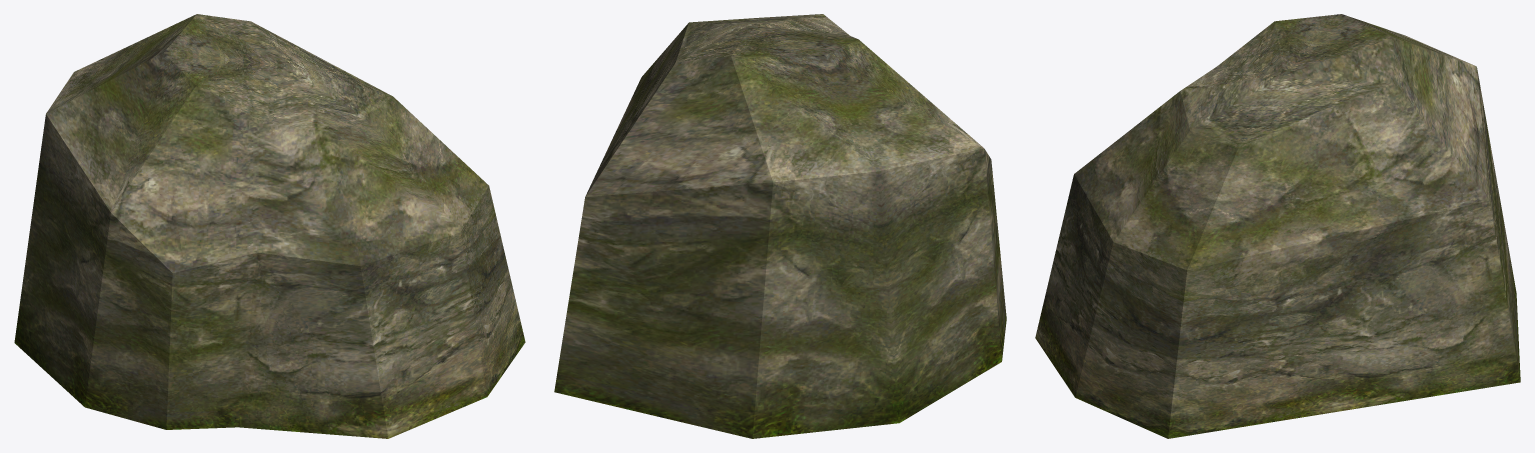
File: Youshuizhou_zhiwu_016_5.FBX
3 views of the same model, side by side, from view 1: azimuth 30°, elevation 25°; view 2: azimuth 150°, elevation 25°; view 3: azimuth 270°, elevation 25° (orthographic). The views are drawn at different scales.
Parts seen in each view (by area): view 1: gy_st_yanshi001_lj5; view 2: gy_st_yanshi001_lj5; view 3: gy_st_yanshi001_lj5.
Part boxes in pixels (x1=…): gy_st_yanshi001_lj5: x1=14, y1=14, x2=525, y2=438; gy_st_yanshi001_lj5: x1=554, y1=14, x2=1006, y2=438; gy_st_yanshi001_lj5: x1=1035, y1=14, x2=1520, y2=438.
Bounding box in the file's own units: 565 × 403 × 597.
